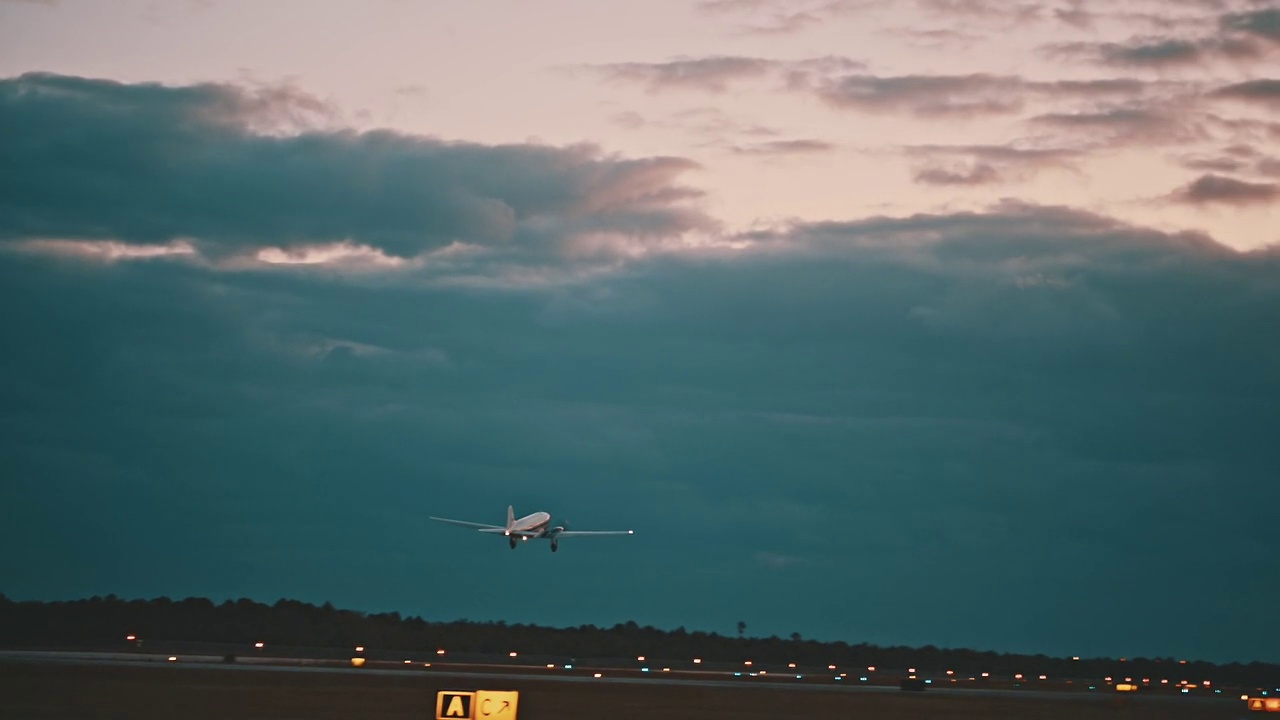plane: (430, 505, 634, 554)
